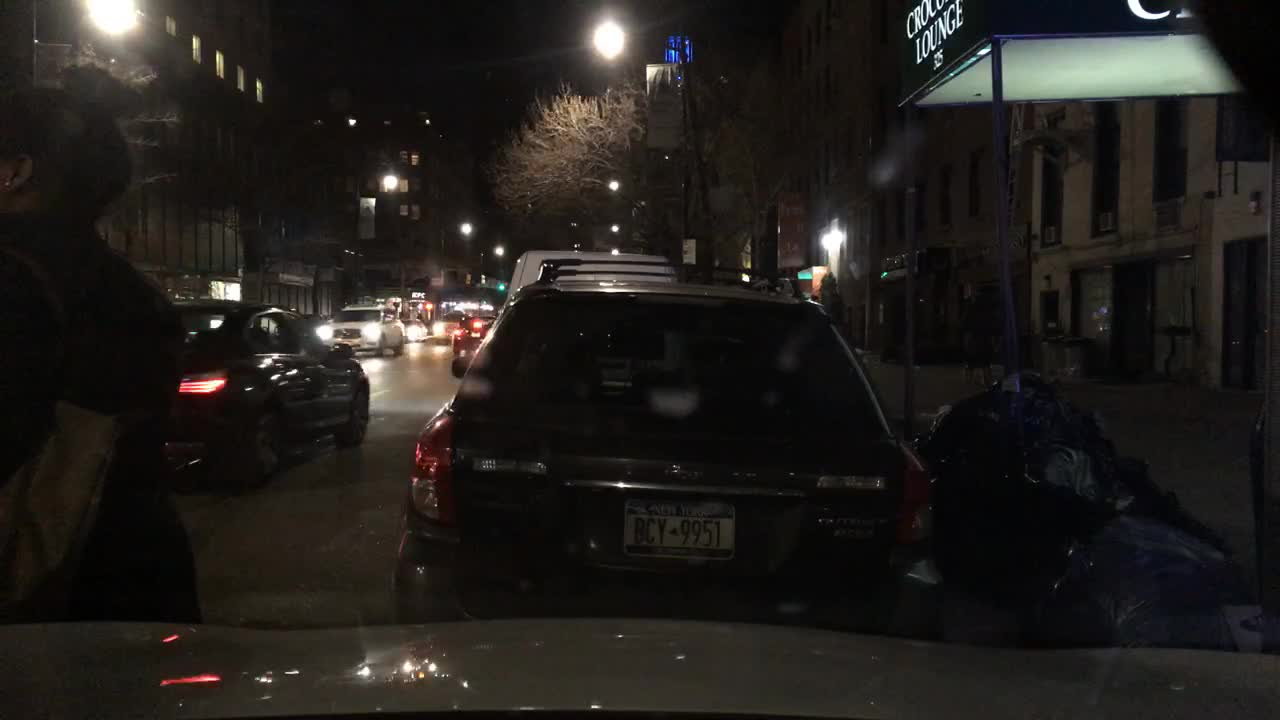car: (386, 255, 949, 645), (157, 296, 373, 491), (502, 247, 681, 311), (311, 303, 406, 361), (449, 314, 499, 379), (431, 310, 461, 346), (401, 316, 429, 343)
person: (0, 59, 204, 626), (950, 274, 996, 389)
traffic light: (496, 281, 505, 291)
